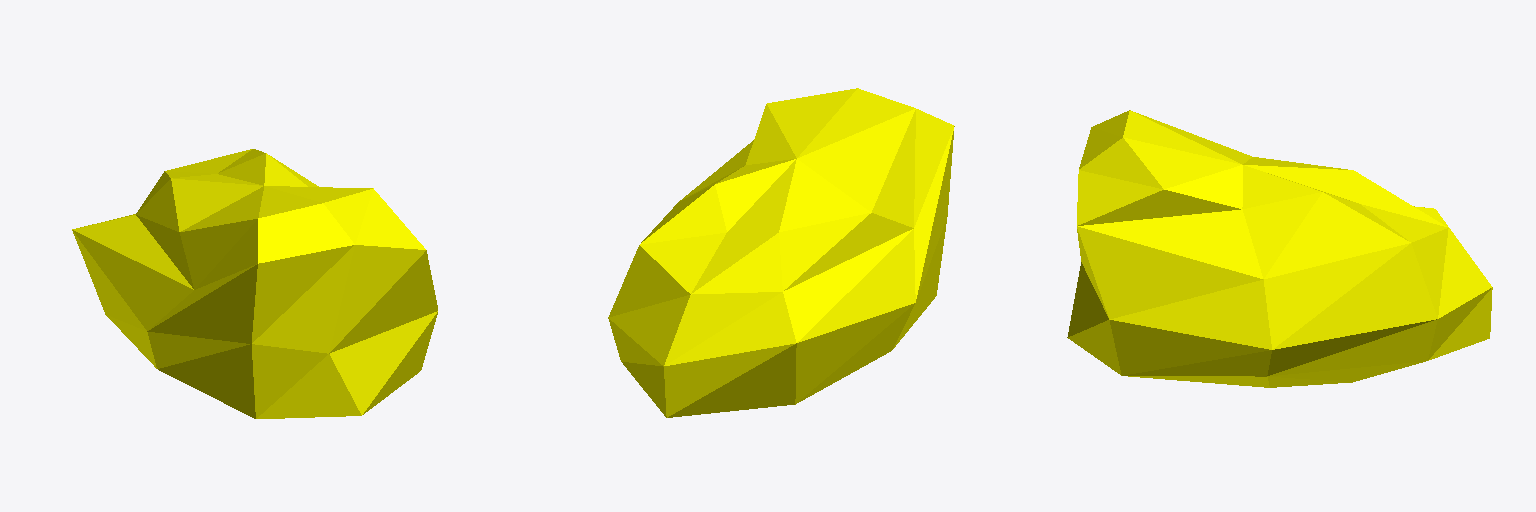
The model's file is SmallRock05_mesh.obj.
The picture shows the model from 3 angles: view 1: azimuth 30°, elevation 25°; view 2: azimuth 150°, elevation 25°; view 3: azimuth 270°, elevation 25°; orthographic projection.
Visible parts, largest first — view 1: SmallRock05_mesh SmallRock05 SmallRocks; view 2: SmallRock05_mesh SmallRock05 SmallRocks; view 3: SmallRock05_mesh SmallRock05 SmallRocks.
Boxes of the visible parts, x1,y1,x2,y2 form: SmallRock05_mesh SmallRock05 SmallRocks: [72, 149, 437, 418]; SmallRock05_mesh SmallRock05 SmallRocks: [608, 88, 954, 417]; SmallRock05_mesh SmallRock05 SmallRocks: [1067, 110, 1492, 387].
Size of the model in its own units: 779 by 657 by 1119.